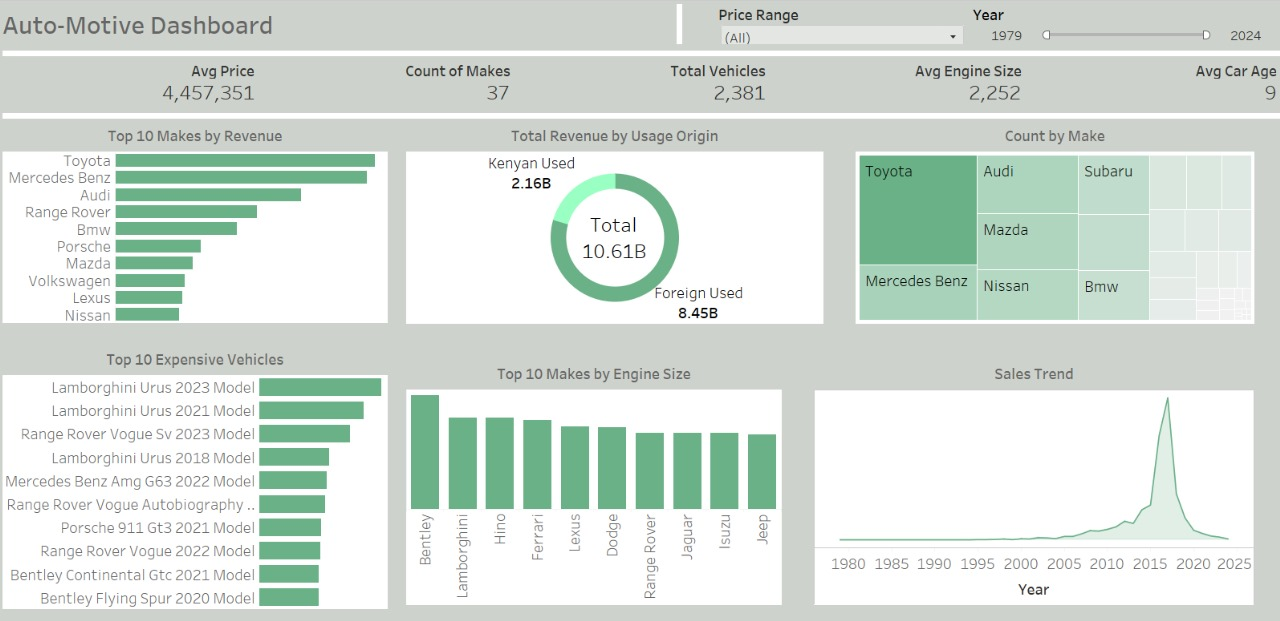

What the dashboard file says about the page in this screenshot:
{"tool":"tableau","page":{"name":"Dashboard","canvas":[1600,800],"ordinal":0},"visuals":[{"type":"text","box":[0,0,567.5,65]},{"type":"blank","box":[567.5,0,10,65]},{"type":"filter","title":"Top 10 Makes by Revenue","param":"[federated.19sfm5003uep7b13yt24r1xoxb0n].[none:Price_Range:nk]","box":[577.5,0,567.5,65]},{"type":"filter","title":"Top 10 Makes by Revenue","param":"[federated.19sfm5003uep7b13yt24r1xoxb0n].[none:Year:qk]","box":[1145,0,455,65]},{"type":"blank","box":[0,65,1600,15]},{"type":"text","box":[0,80,321,33]},{"type":"text","box":[321,80,339,33]},{"type":"text","box":[660,80,261,33]},{"type":"text","box":[921,80,350,33]},{"type":"text","box":[1271,80,329,33]},{"type":"worksheet","title":"Avg Price","mark":"Automatic","box":[0,113,321,105]},{"type":"worksheet","title":"Makes Count","mark":"Automatic","box":[321,113,339,105]},{"type":"worksheet","title":"Total Vehicles","mark":"Automatic","box":[660,113,261,105]},{"type":"worksheet","title":"Avg Engine Size","mark":"Automatic","box":[921,113,350,105]},{"type":"worksheet","title":"Avg Car Age","mark":"Automatic","box":[1271,113,329,105]},{"type":"text","box":[0,218,554,33]},{"type":"text","box":[554,218,554,33]},{"type":"text","box":[1108,218,492,33]},{"type":"worksheet","title":"Top 10 Makes by Revenue","mark":"Automatic","rows":["Make"],"cols":["Price"],"box":[0,251,554,224]},{"type":"worksheet","title":"Total Revenue by Usage Origin","mark":"Pie","cols":["Calculation_783907814217064450","Calculation_783907814217064450"],"box":[554,251,554,224]},{"type":"worksheet","title":"Count by Make","mark":"Automatic","box":[1108,251,492,224]},{"type":"text","box":[0,475,554,33]},{"type":"text","box":[554,475,554,33]},{"type":"text","box":[1108,475,492,33]},{"type":"worksheet","title":"Average Price by year","mark":"Automatic","rows":["Price"],"cols":["Year","Year"],"box":[0,508,554,215]},{"type":"worksheet","title":"Top 10 Makes by Avg Engine Size","mark":"Automatic","rows":["Engine_Size"],"cols":["Make"],"box":[554,508,554,215]},{"type":"worksheet","title":"Sales Trend","mark":"Automatic","rows":["Name"],"cols":["Year","Year"],"box":[1108,508,492,215]}]}

Visuals, with their boxes on the page's 1600x800 design canvas (x1, y1, x2, y2). These are canvas units, not pixel positions in the 1280x621 screenshot, which may show the page scaled, cropped or inside an application window:
text: (0, 0, 568, 65)
blank: (568, 0, 578, 65)
"Top 10 Makes by Revenue" filter: (578, 0, 1145, 65)
"Top 10 Makes by Revenue" filter: (1145, 0, 1600, 65)
blank: (0, 65, 1600, 80)
text: (0, 80, 321, 113)
text: (321, 80, 660, 113)
text: (660, 80, 921, 113)
text: (921, 80, 1271, 113)
text: (1271, 80, 1600, 113)
"Avg Price" worksheet: (0, 113, 321, 218)
"Makes Count" worksheet: (321, 113, 660, 218)
"Total Vehicles" worksheet: (660, 113, 921, 218)
"Avg Engine Size" worksheet: (921, 113, 1271, 218)
"Avg Car Age" worksheet: (1271, 113, 1600, 218)
text: (0, 218, 554, 251)
text: (554, 218, 1108, 251)
text: (1108, 218, 1600, 251)
"Top 10 Makes by Revenue" worksheet: (0, 251, 554, 475)
"Total Revenue by Usage Origin" worksheet (Pie marks): (554, 251, 1108, 475)
"Count by Make" worksheet: (1108, 251, 1600, 475)
text: (0, 475, 554, 508)
text: (554, 475, 1108, 508)
text: (1108, 475, 1600, 508)
"Average Price by year" worksheet: (0, 508, 554, 723)
"Top 10 Makes by Avg Engine Size" worksheet: (554, 508, 1108, 723)
"Sales Trend" worksheet: (1108, 508, 1600, 723)
